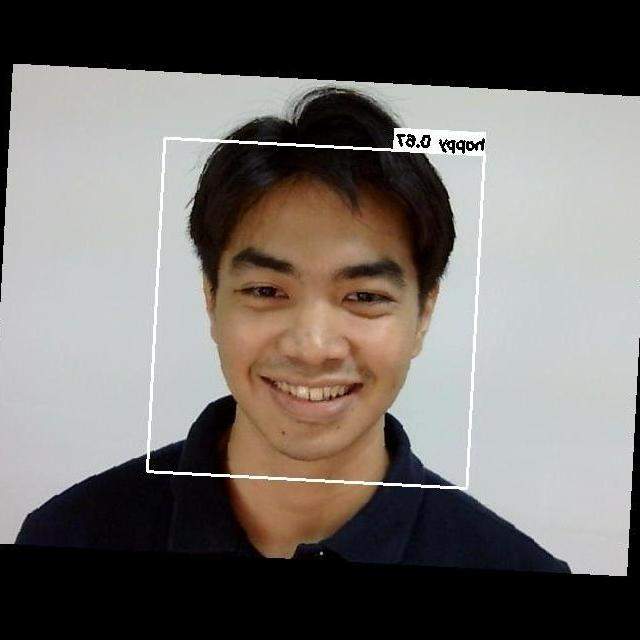Happy: (208, 217, 422, 420)
